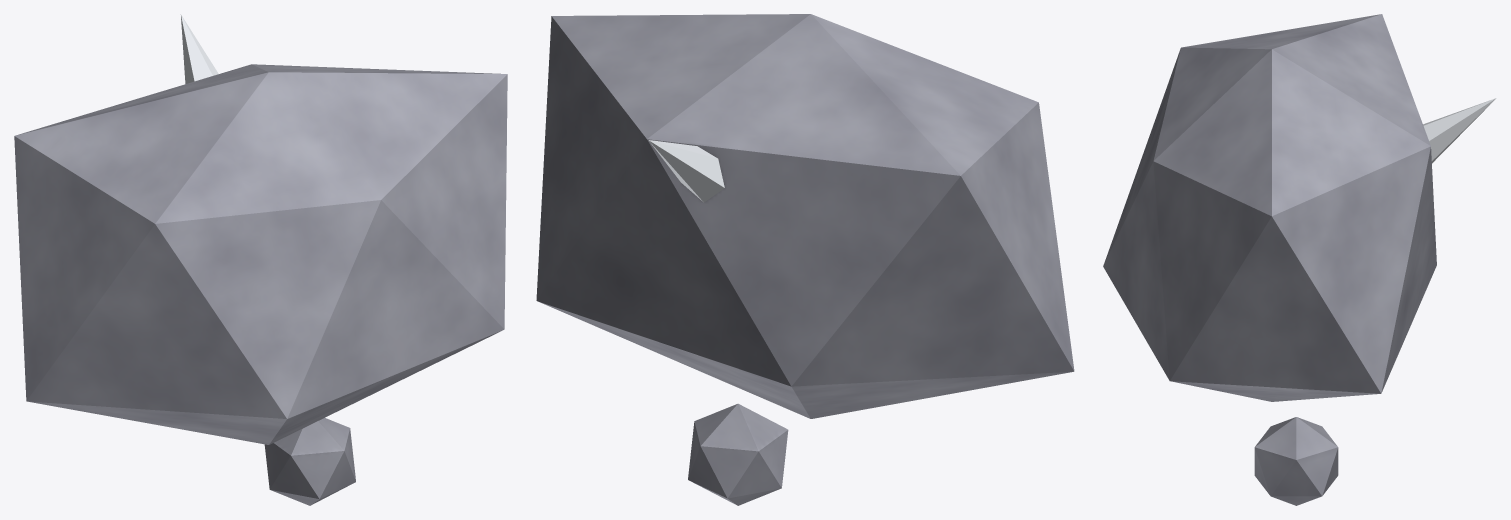
File: BG_Shard_Rock.obj
The picture shows the model from 3 angles, left to right: view 1: azimuth 30°, elevation 25°; view 2: azimuth 150°, elevation 25°; view 3: azimuth 270°, elevation 25°; orthographic projection. The views are drawn at different scales.
Visible parts, largest first — view 1: BG_Shard_Rock; view 2: BG_Shard_Rock; view 3: BG_Shard_Rock.
Part boxes in pixels (x1,y1,x2,y2): BG_Shard_Rock: [14, 14, 507, 505]; BG_Shard_Rock: [536, 14, 1074, 505]; BG_Shard_Rock: [1103, 14, 1496, 505].
Size of the model in its own units: 1 by 0.9061 by 0.749.
Materials: 1 (1 with a texture image).
